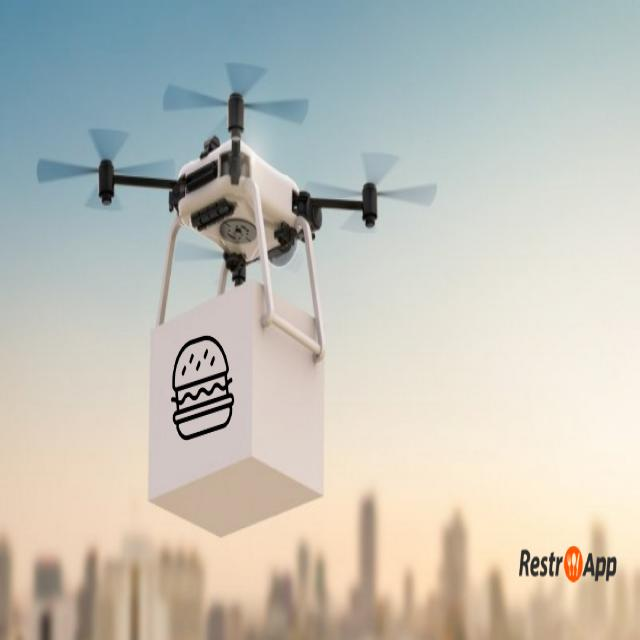drones: (29, 43, 444, 376)
